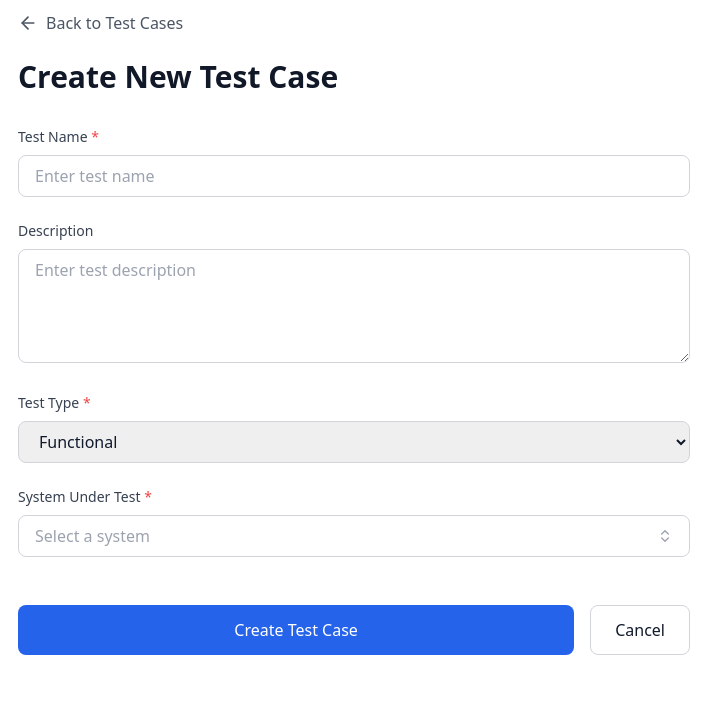
Test: TestCaseForm › Validation › should clear validation errors on input
Click the button "Create Test Case".
click(296, 630)  # box [18, 605, 574, 655]
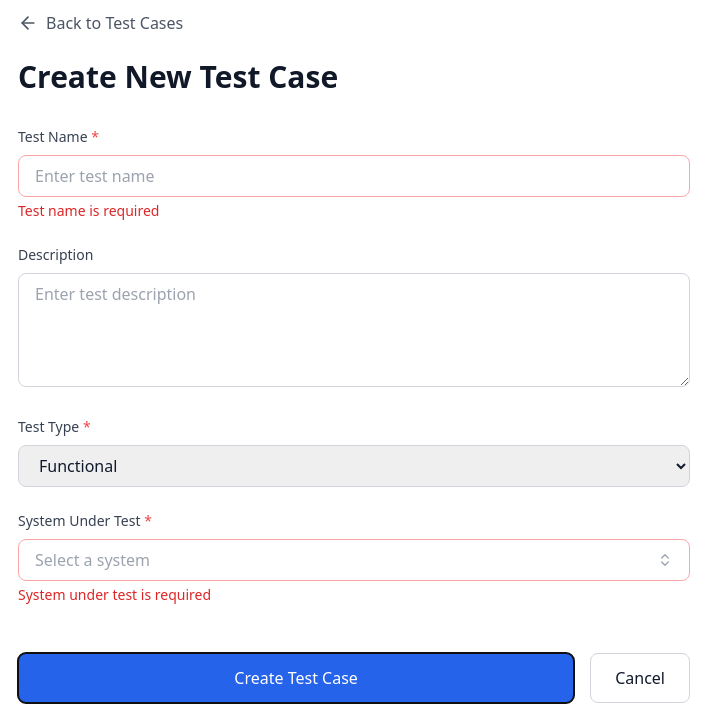
Now the text "Test name is required" is shown, box [18, 201, 160, 220]
Type "Test Case" into the field labelled "Test Name *".
click(354, 176); type("Test Case")  # box [18, 155, 690, 197]
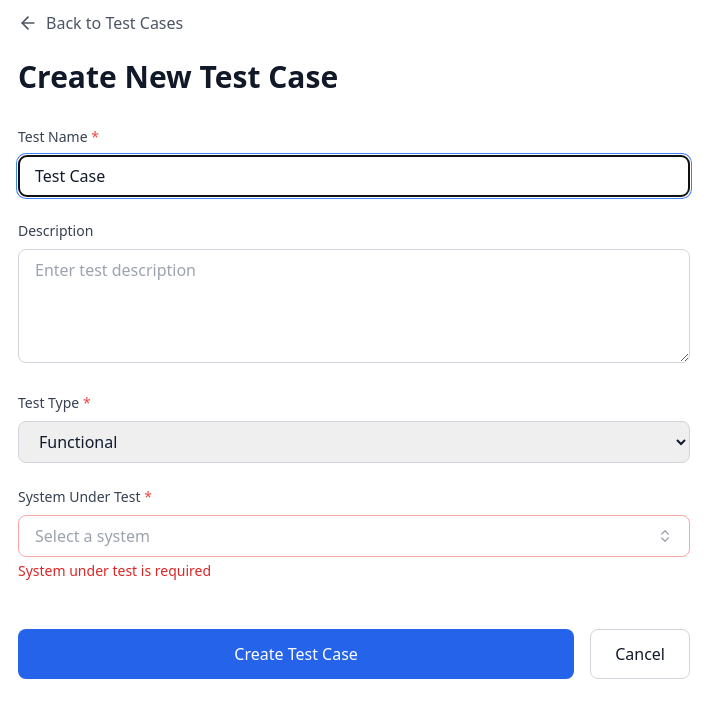
Now the text "Test name is required" is gone
